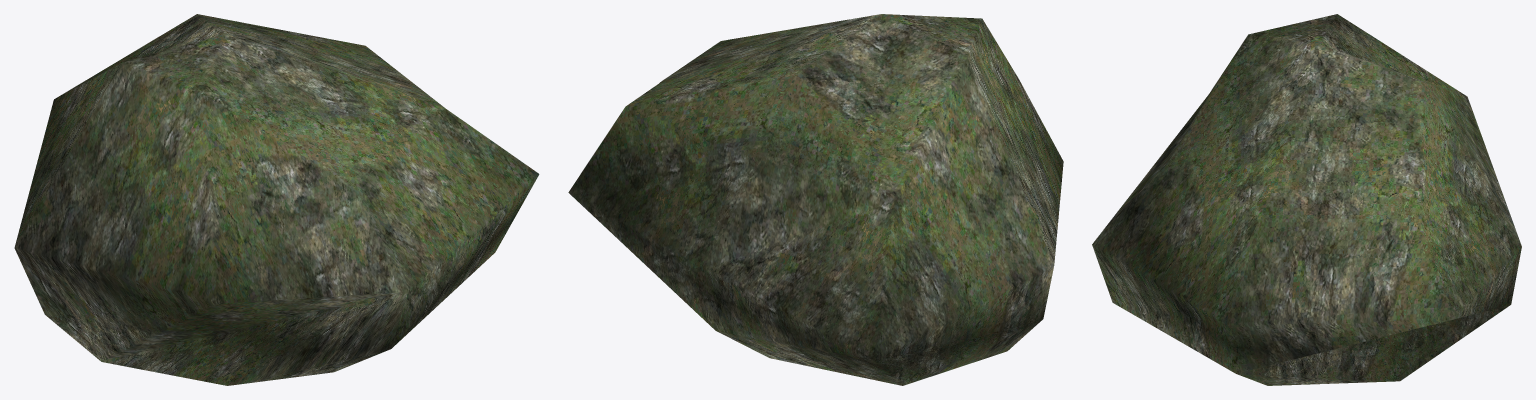
Rendered from mtns_rock_moss_a8_l1.fbx.
3 renders of one model, left to right at view 1: azimuth 30°, elevation 25°; view 2: azimuth 150°, elevation 25°; view 3: azimuth 270°, elevation 25°, orthographic. The views are drawn at different scales.
Parts seen in each view (by area): view 1: mesh_node; view 2: mesh_node; view 3: mesh_node.
Part boxes in pixels (bbox=[...]): mesh_node: bbox=[14, 14, 539, 385]; mesh_node: bbox=[568, 14, 1063, 385]; mesh_node: bbox=[1092, 14, 1521, 385].
Bounding box in the file's own units: 1.93 × 1.21 × 1.69.
